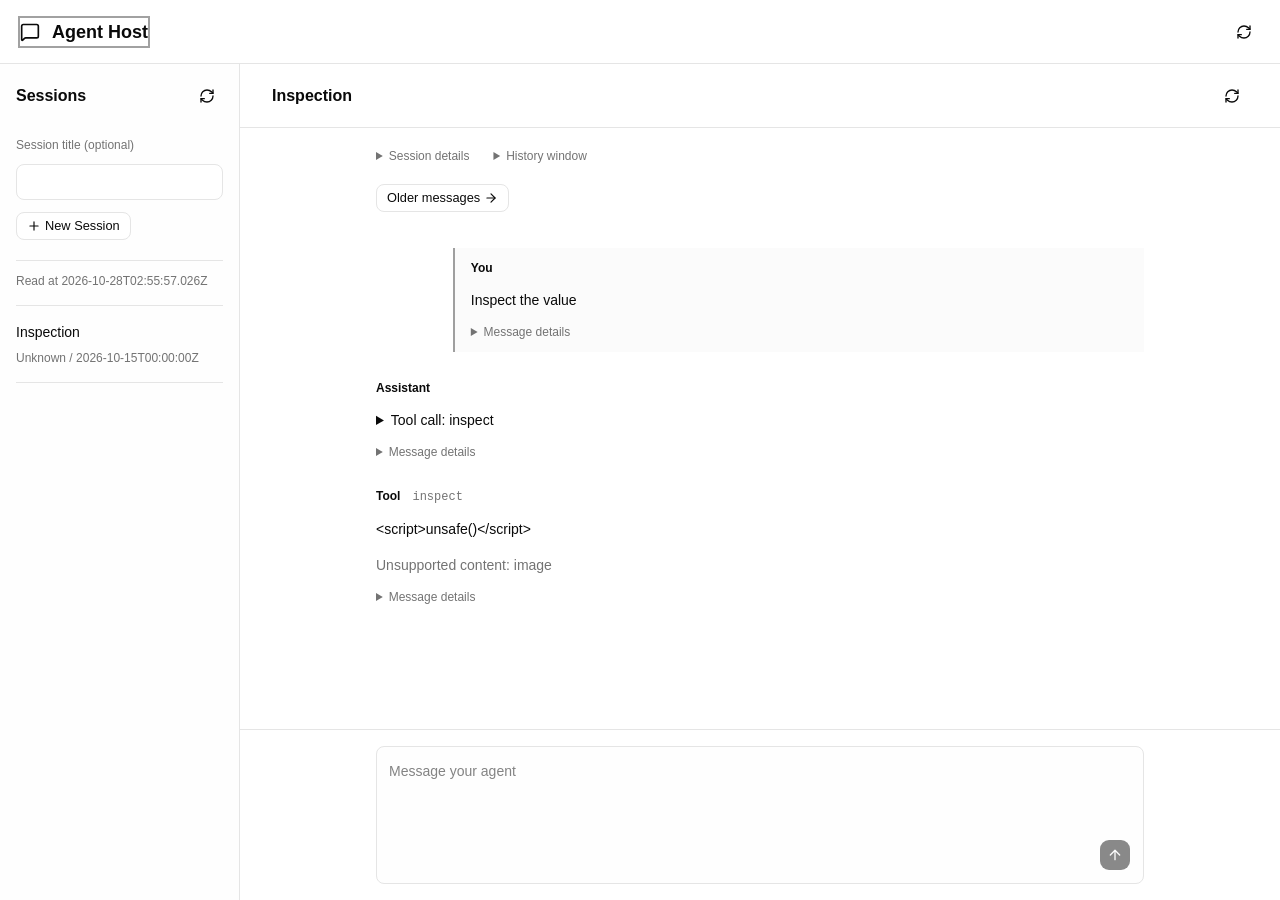
Test case: Agent Host Session browsing › sends Enter, keeps Shift+Enter as a newline and does not submit an IME composition
Type "Hello" into the text box named "New input" at (760, 795), box [389,759,1131,831]
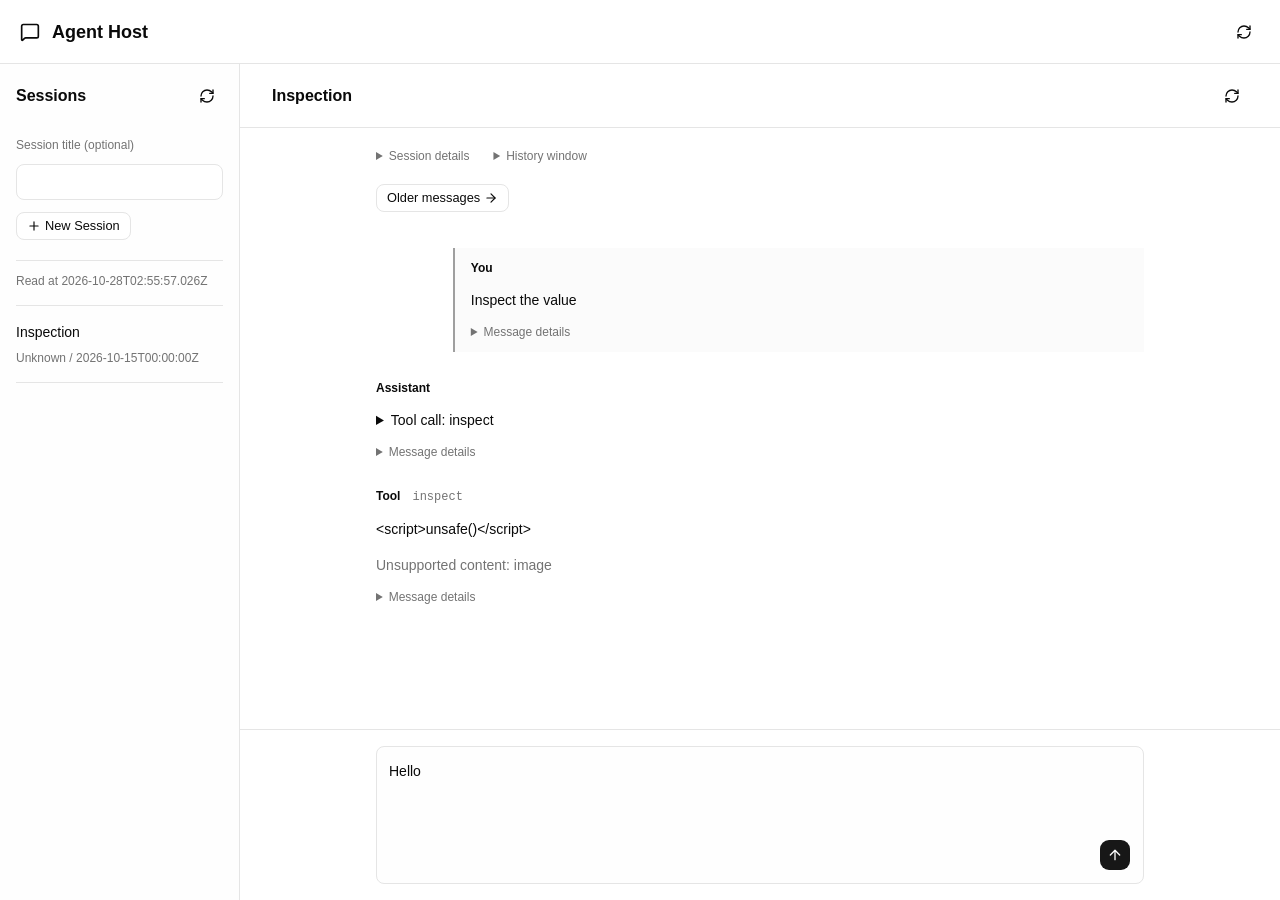
Type keys "{Shift>}{Enter}{/Shift}World"
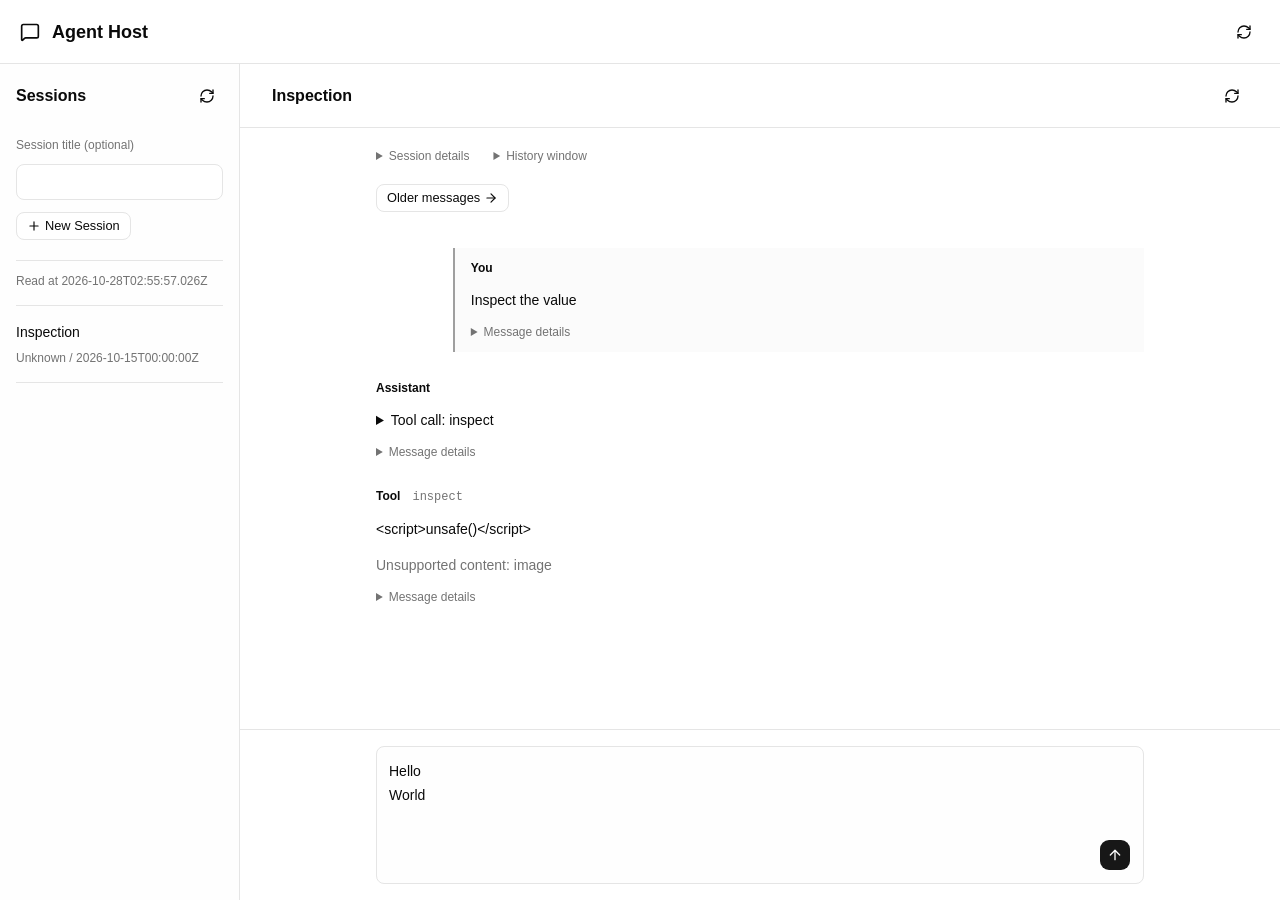
Press Enter in the text box named "New input", box [389,759,1131,831]
Press Enter
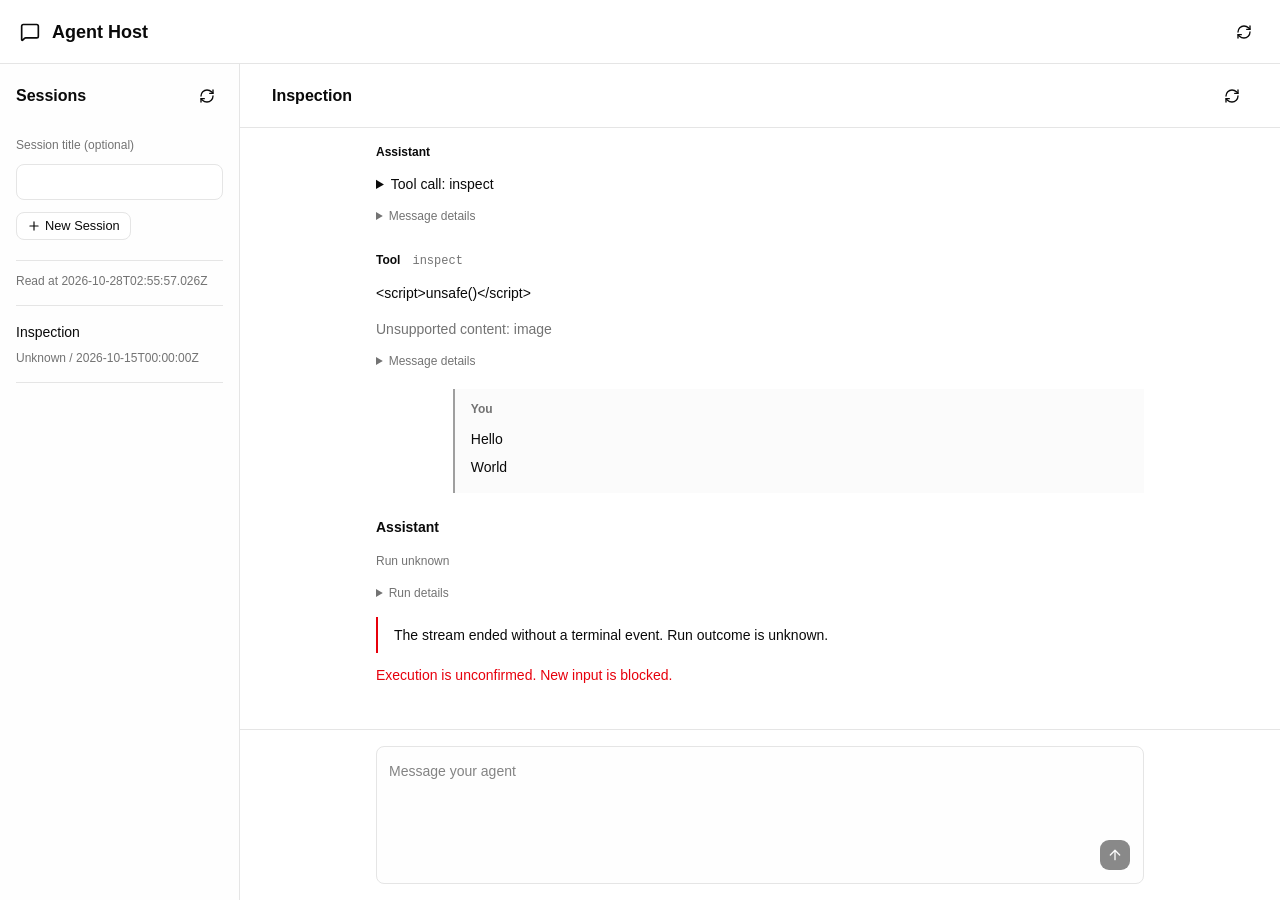
Now the text "Run unknown" is shown, box [376,554,449,568]
